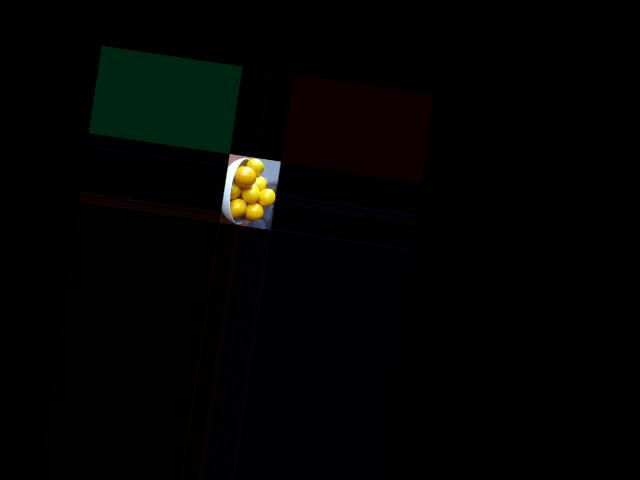lemon: (226, 183, 242, 199)
